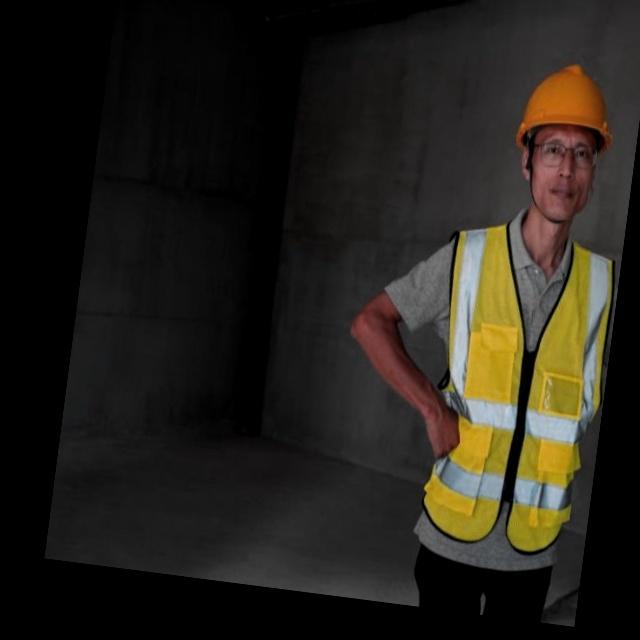Con_Casco: (506, 57, 621, 227)
Con_Chaleco: (409, 215, 625, 563)
